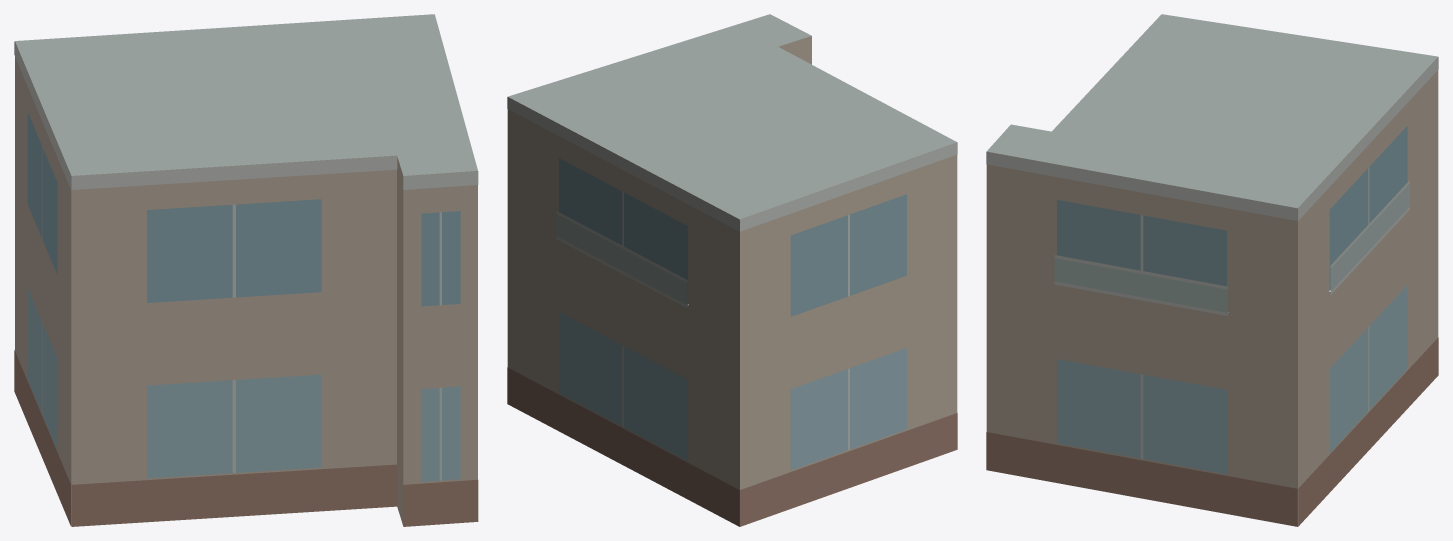
Rendered from survey-upis-32553039.glb.
The picture shows the model from 3 angles, left to right: view 1: azimuth 30°, elevation 25°; view 2: azimuth 150°, elevation 25°; view 3: azimuth 270°, elevation 25°; orthographic projection. The views are drawn at different scales.
Parts seen in each view (by area): view 1: survey-upis-32553039.tmp; view 2: survey-upis-32553039.tmp; view 3: survey-upis-32553039.tmp.
Boxes of the visible parts, left/top/right/bottom form: survey-upis-32553039.tmp: left=14, top=14, right=478, bottom=526; survey-upis-32553039.tmp: left=507, top=14, right=957, bottom=526; survey-upis-32553039.tmp: left=986, top=14, right=1438, bottom=526.
Bounding box in the file's own units: 7.99 × 6.1 × 7.86.
